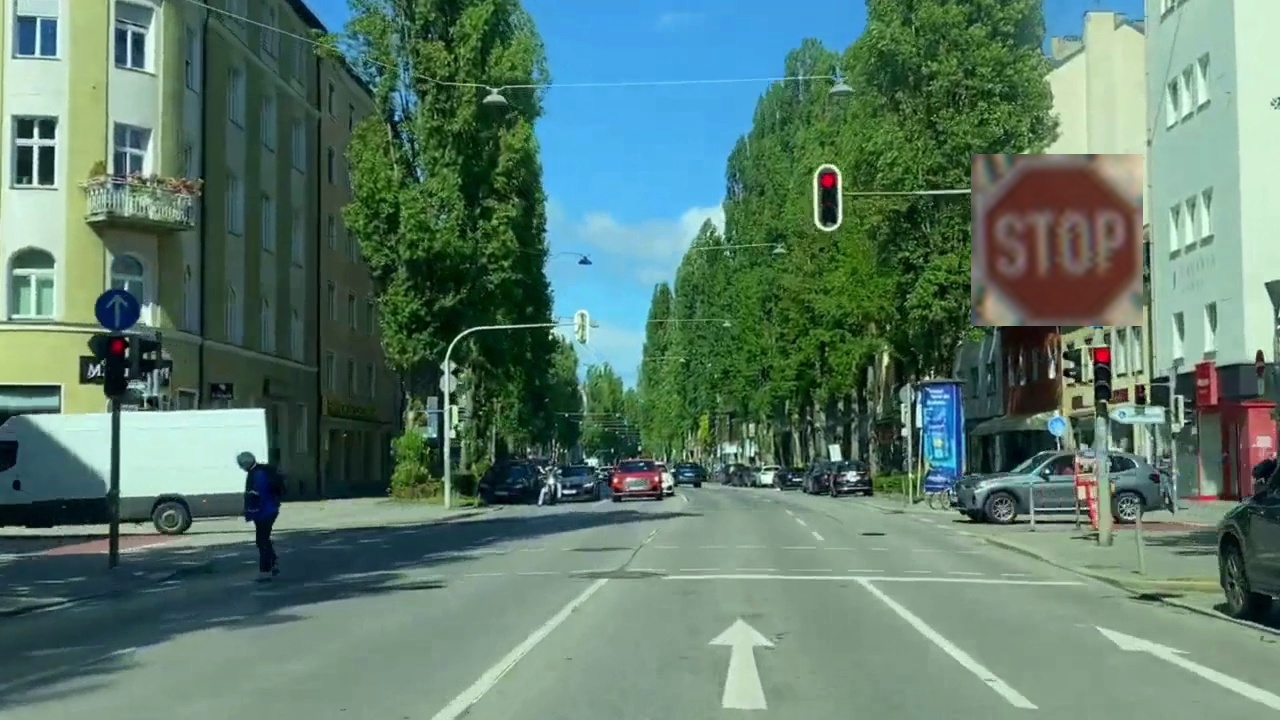Stop: (971, 154, 1143, 326)
